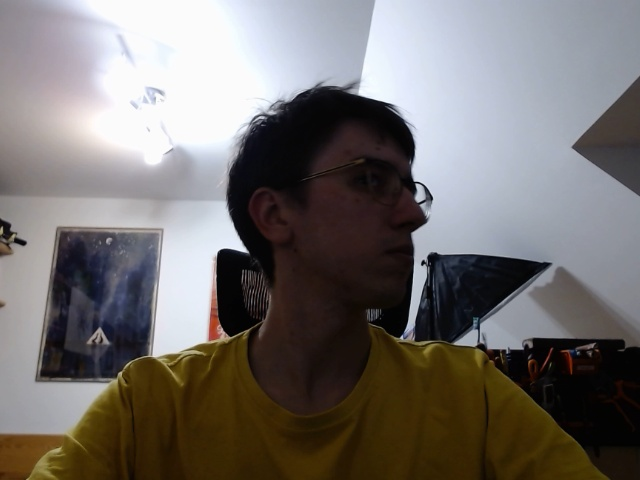NoMask: (226, 91, 438, 311)
